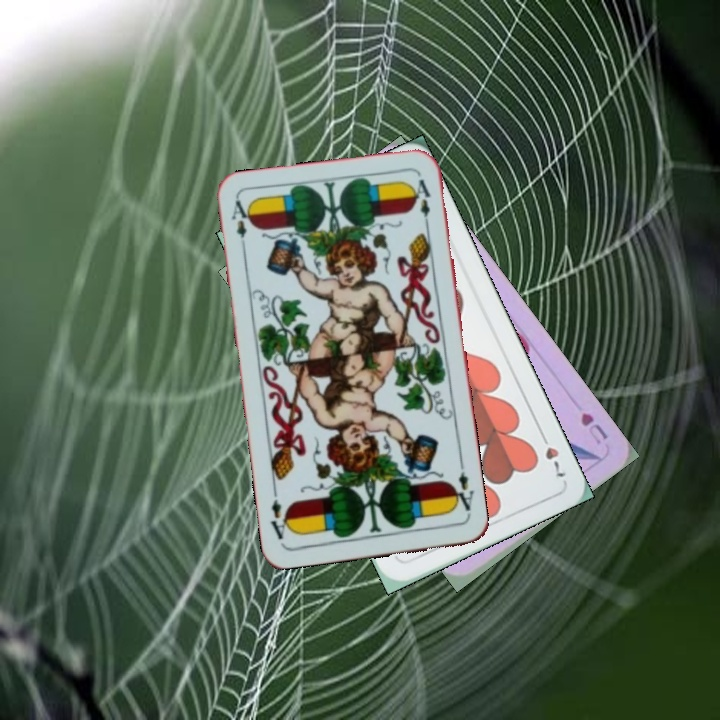EA: (447, 460, 476, 519), (227, 196, 254, 255)
H7: (535, 427, 569, 480)
HU: (576, 408, 611, 447)
